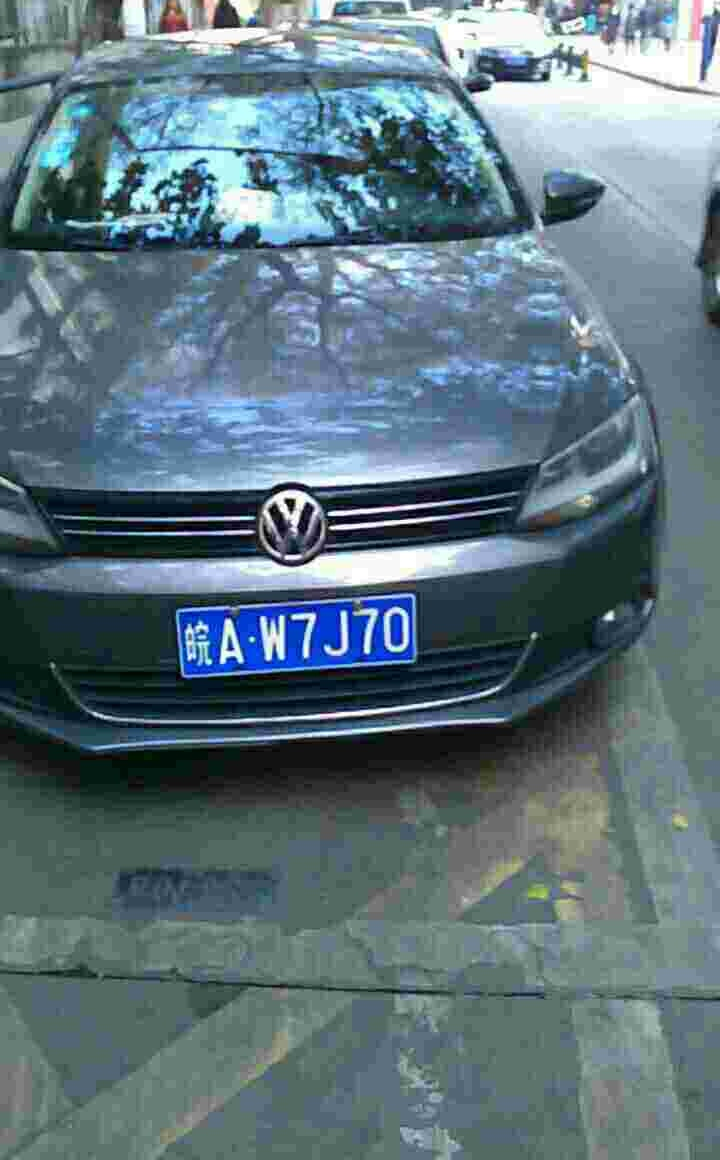license_plate: (177, 591, 428, 682)
